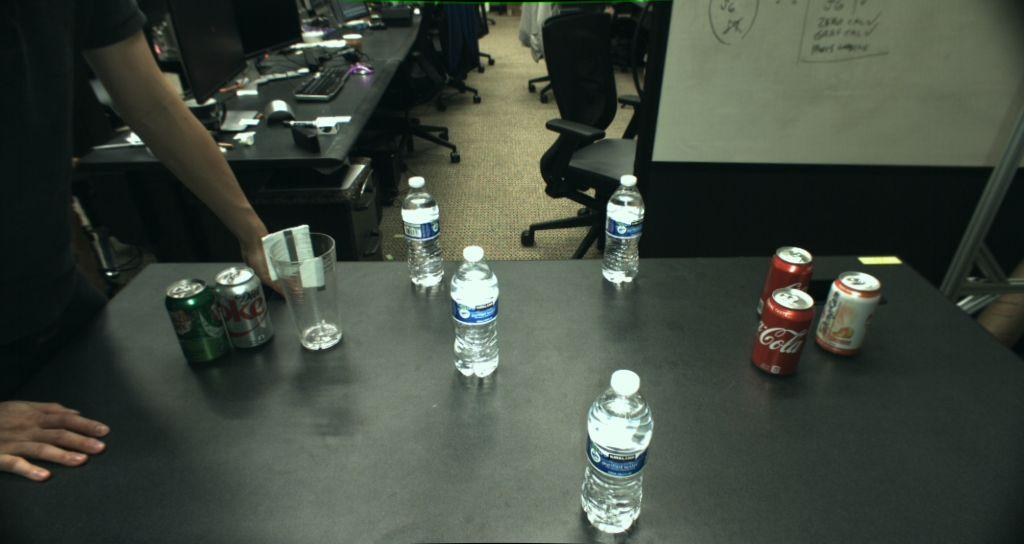can_coke: (752, 288, 814, 377)
can_diet_coke: (214, 265, 275, 351)
can_ginger_ale: (164, 278, 231, 366)
can_talking_rain_peach_nectarine: (817, 271, 880, 357)
water_bottle: (581, 369, 653, 533), (449, 245, 500, 377), (400, 176, 444, 287), (602, 175, 644, 283)
